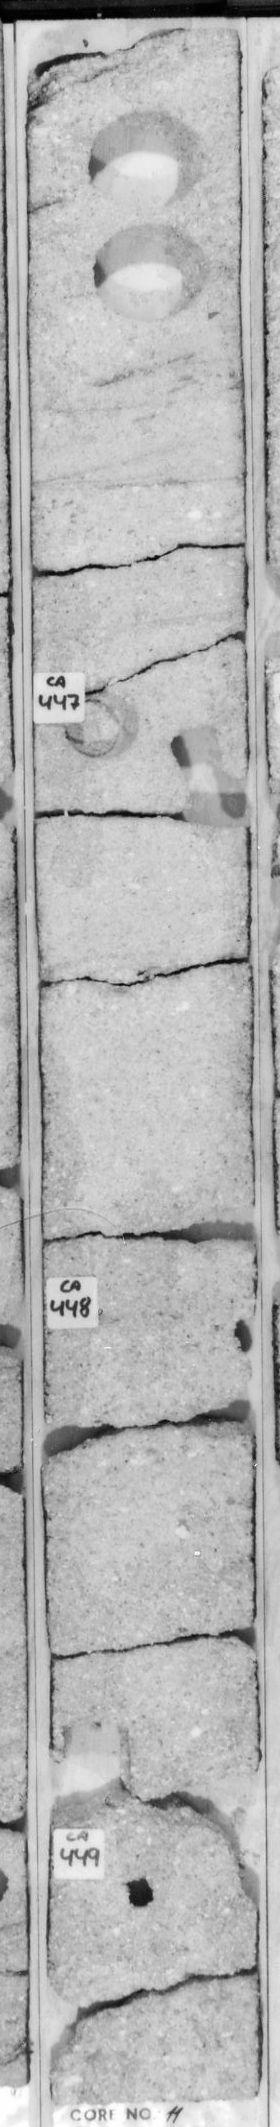hplug: (63, 686, 148, 766)
scal: (86, 222, 213, 330), (77, 111, 203, 216)
vplug: (58, 1717, 141, 1820), (167, 720, 237, 827)
